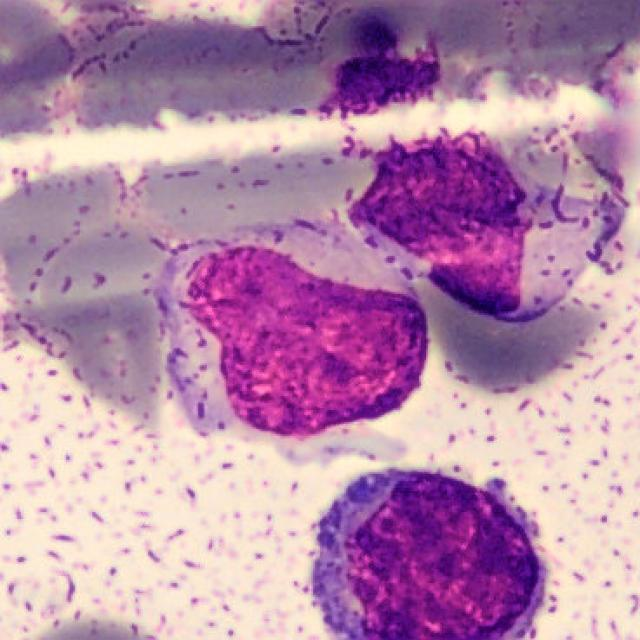Mieloblasto: (160, 235, 431, 443)
